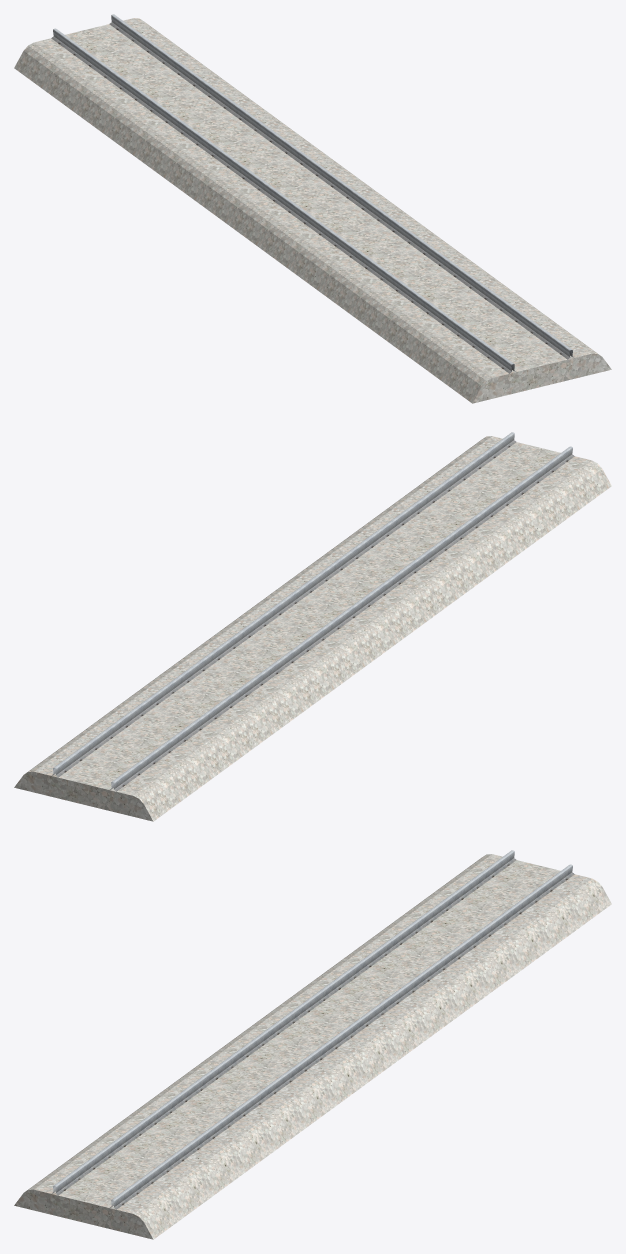
Rendered from track239n.glb.
The picture shows the model from 3 angles, top to bottom: view 1: azimuth 30°, elevation 25°; view 2: azimuth 150°, elevation 25°; view 3: azimuth 330°, elevation 25°; orthographic projection.
Parts seen in each view (by area): view 1: G239; view 2: G239; view 3: G239.
Part boxes in pixels (x1,y1,x2,y2): G239: (14,14,611,403); G239: (14,432,611,821); G239: (14,850,611,1239).
Size of the model in its own units: 0.42 by 0.085 by 2.39.
2 materials, 2 textured.
